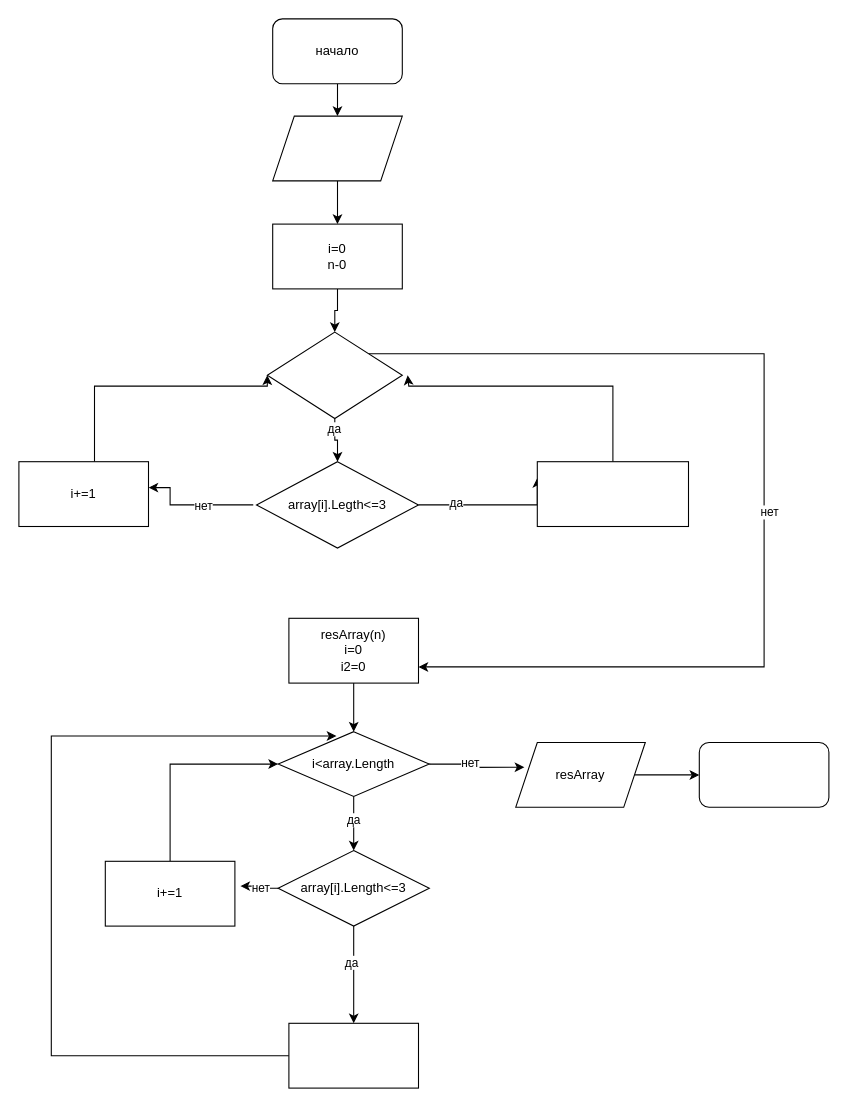
The diagram is 848 pixels wide and 1107 high, and some of its shapes have lost their labels. Each missing label, with the box of its shape:
arrayt: (272, 115, 402, 181)
i+=1 n+=1: (536, 461, 688, 526)
i<array.Legth: (266, 331, 402, 418)
rezArray[i2]=array[i] i+=1 i2+=1: (288, 1022, 418, 1088)
конец: (698, 741, 829, 807)
